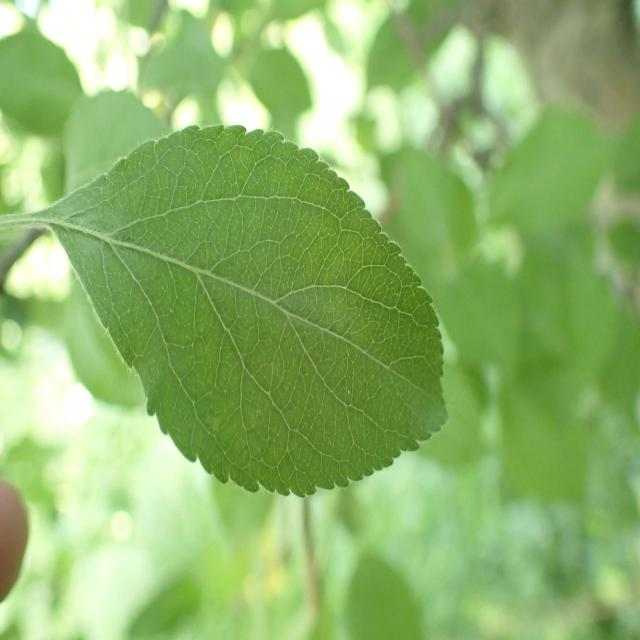healthy: (9, 123, 448, 499)
